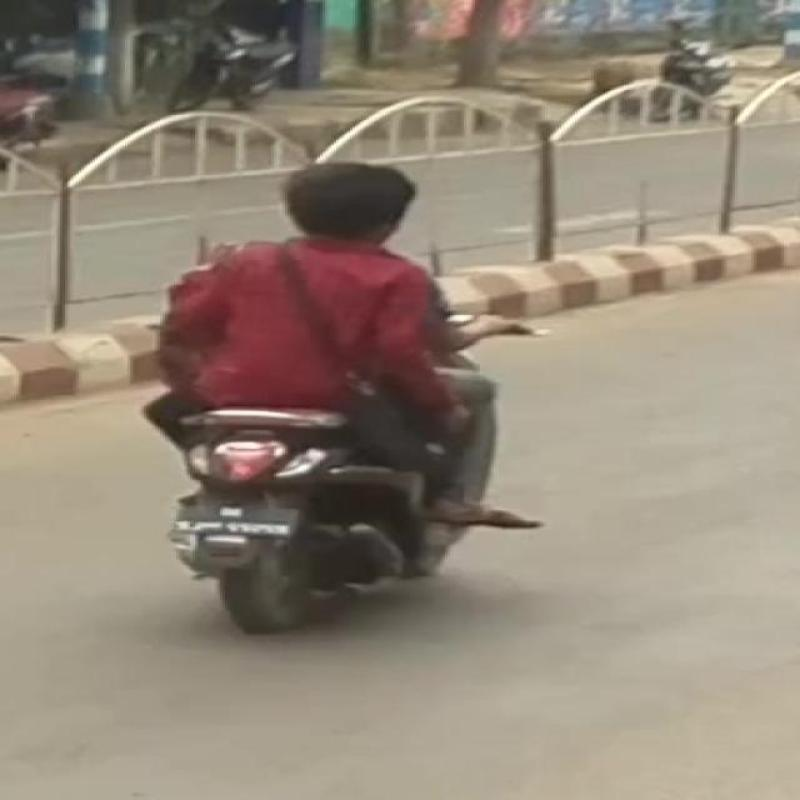nohelmet: (267, 150, 438, 242)
